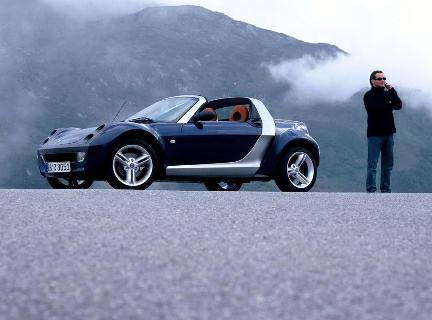smart-roadster: (41, 90, 322, 190)
